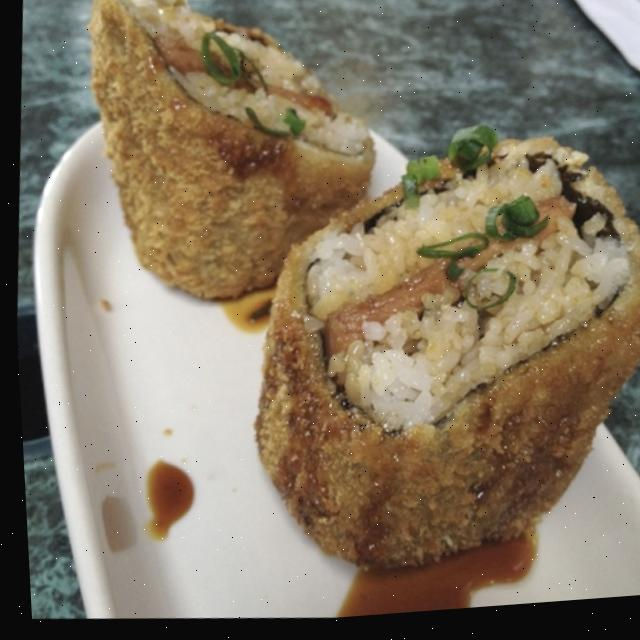寿司卷物: (22, 0, 640, 637)
